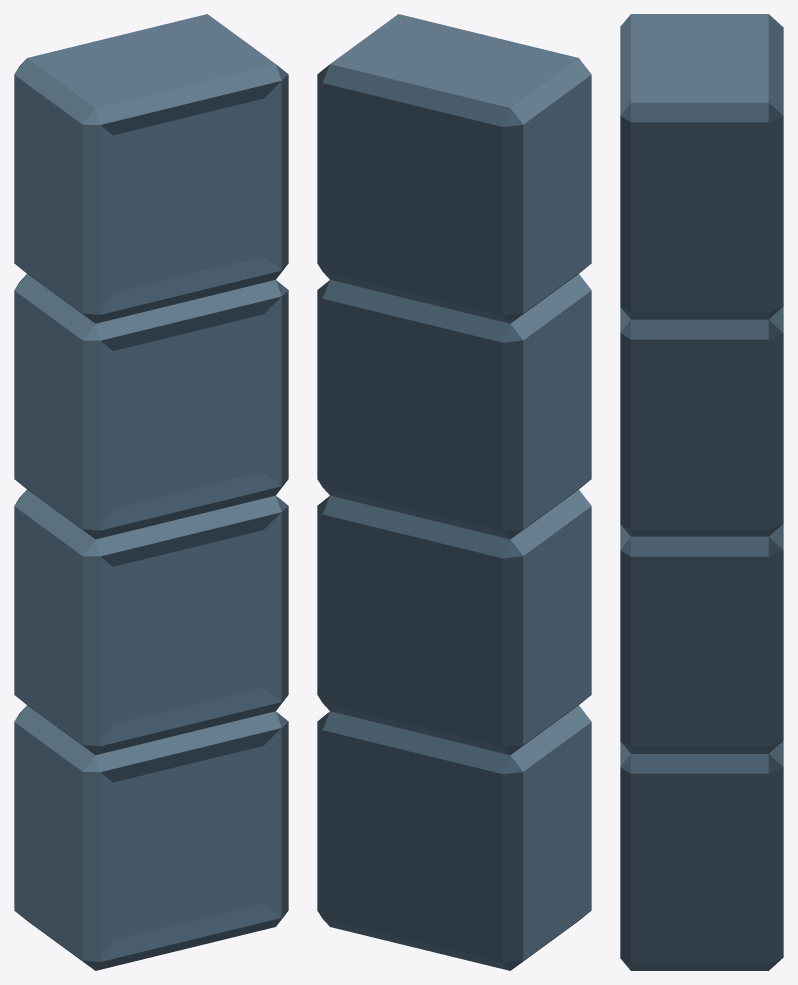
Rendered from Terrain_Block1x4.gltf.
3 renders of one model, left to right at view 1: azimuth 30°, elevation 25°; view 2: azimuth 150°, elevation 25°; view 3: azimuth 270°, elevation 25°, orthographic.
Visible parts, largest first — view 1: Terrain_Block1x4_baked; view 2: Terrain_Block1x4_baked; view 3: Terrain_Block1x4_baked.
Boxes of the visible parts, x1,y1,x2,y2 form: Terrain_Block1x4_baked: (14,14,288,970); Terrain_Block1x4_baked: (317,14,591,970); Terrain_Block1x4_baked: (620,14,783,970).
Size of the model in its own units: 1 by 4 by 0.6822.
